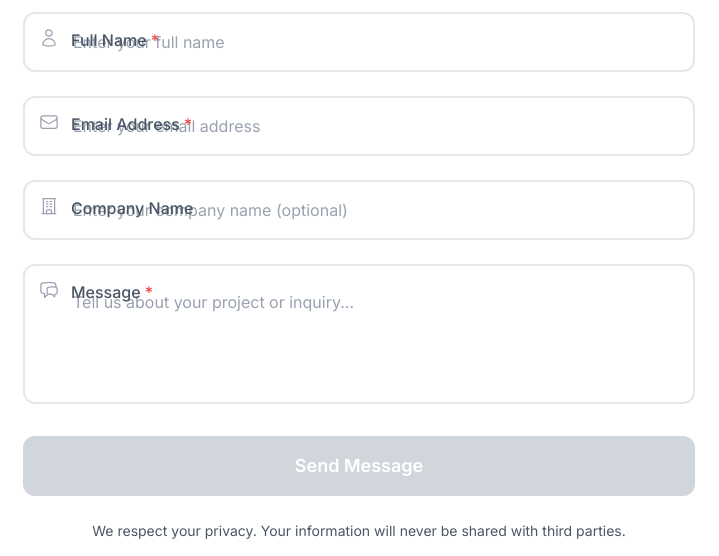
Test case: Accessibility - Form Labels and Error Messages › ContactForm Component › should have accessible submit button with loading state
The image size is (719, 556).
Fill form with valid data
Type "John Doe" into the field labelled "Full Name*".
click(359, 42); type("John Doe")  # box [23,12,695,72]
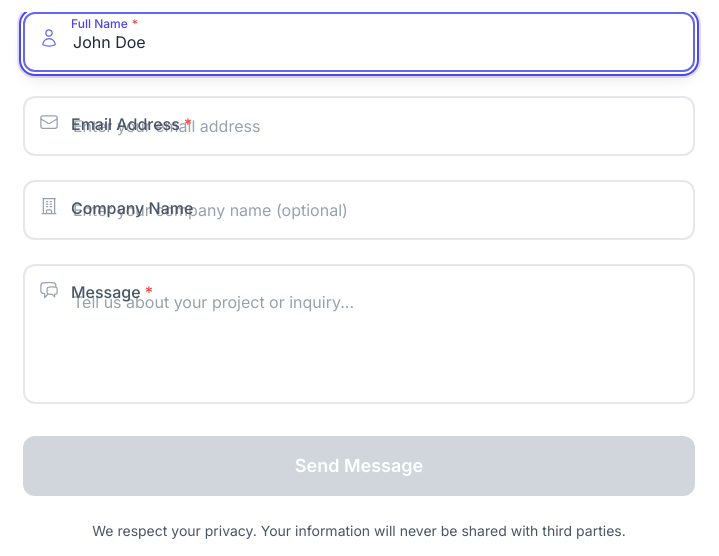
Type "john@example.com" into the field labelled "Email Address*".
click(359, 126); type("john@example.com")  # box [23,96,695,156]
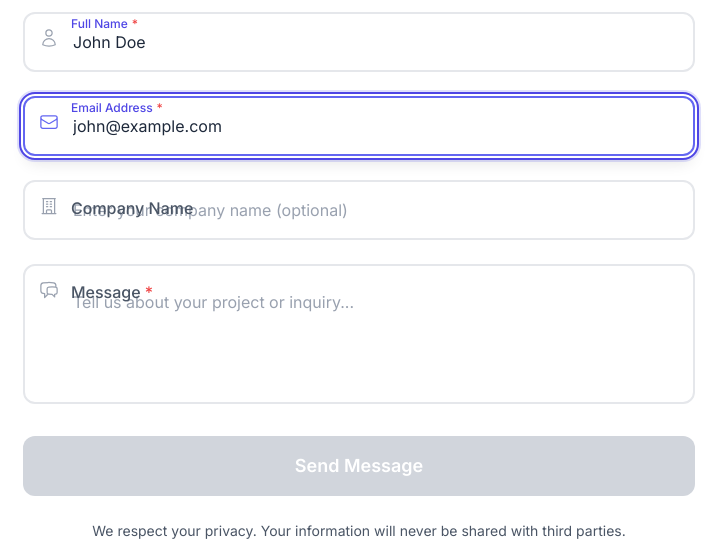
Type "This is a test message" into the text box labelled "Message*".
click(359, 334); type("This is a test message")  # box [23,264,695,404]
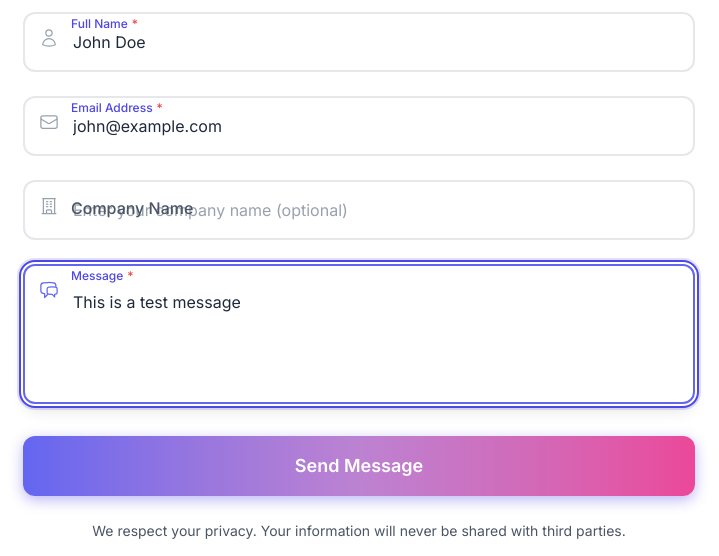
Click the button "Send Message".
click(359, 466)  # box [23,436,695,496]
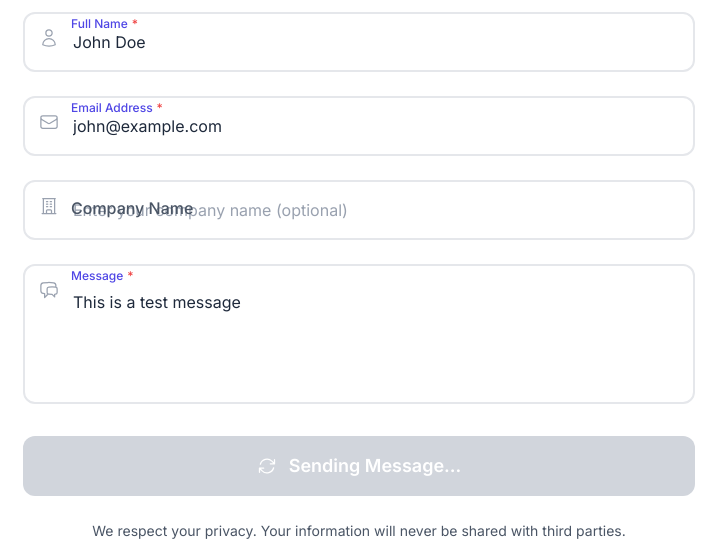
Now the button named "send message" is disabled, box [23,436,695,496]
